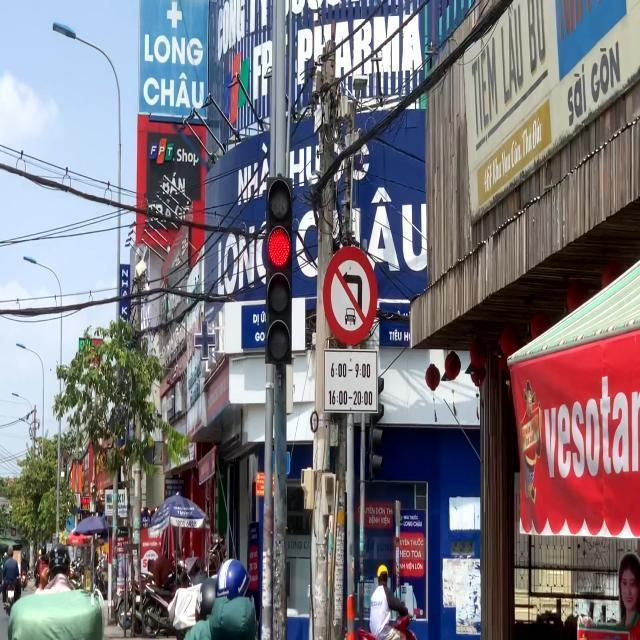123a-cam-re-trai: (324, 244, 381, 340)
